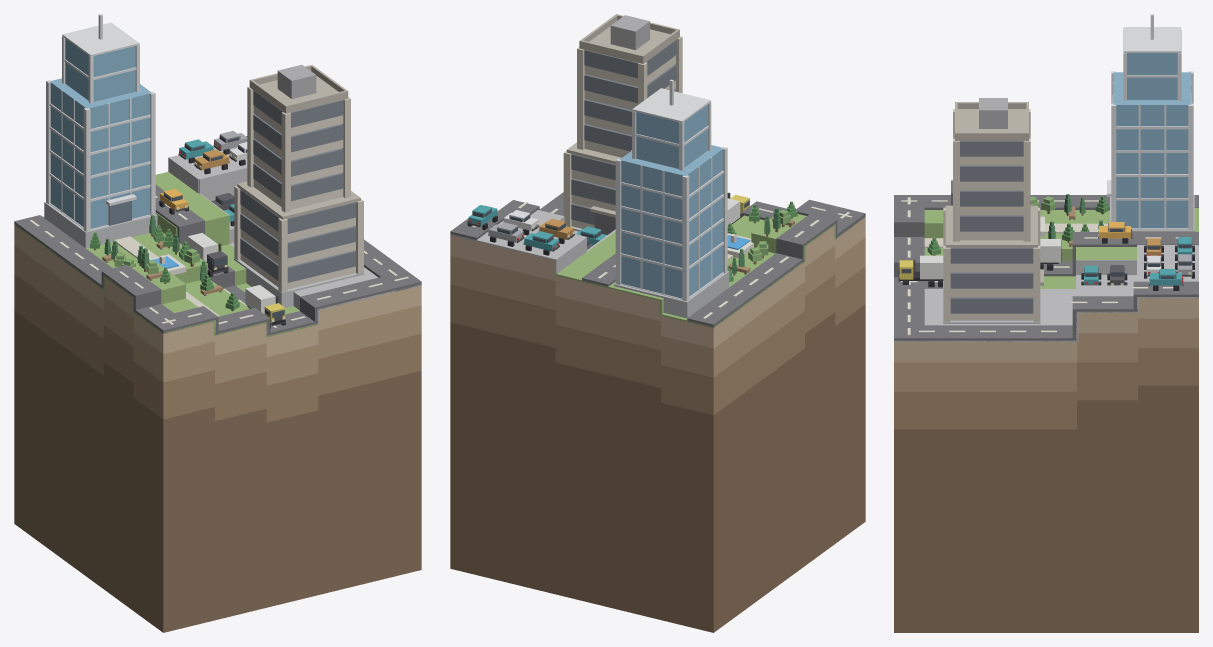
File: block_8_wetlands_0.glb
The picture shows the model from 3 angles, left to right: view 1: azimuth 30°, elevation 25°; view 2: azimuth 150°, elevation 25°; view 3: azimuth 270°, elevation 25°; orthographic projection. The views are drawn at different scales.
Parts seen in each view (by area): view 1: Patch_UpperLeft_b05_WL, Commercial_UpperLeft_WL, Roads_UpperLeft_b05_WL, Green_UpperLeft_j5_WL, Park_UpperLeft_WL, ULCar_025_WL, ULCar_024_WL, RoadMarks_UpperLeft_b05_WL, ULPark_Car02.001_WL; view 2: Patch_UpperLeft_b05_WL, Commercial_UpperLeft_WL, Roads_UpperLeft_b05_WL, Green_UpperLeft_j5_WL, Park_UpperLeft_WL, ULPark_Car00_WL, ULPark_Car00.001_WL; view 3: Patch_UpperLeft_b05_WL, Commercial_UpperLeft_WL, Roads_UpperLeft_b05_WL, Green_UpperLeft_j5_WL, ULCar_025_WL, RoadMarks_UpperLeft_b05_WL, Park_UpperLeft_WL, ULCar_024_WL, ULCar_013_WL, ULCar_023_WL.
Boxes of the visible parts, x1,y1,x2,y2 form: Patch_UpperLeft_b05_WL: [14, 225, 421, 632]; Commercial_UpperLeft_WL: [44, 14, 364, 307]; Roads_UpperLeft_b05_WL: [14, 136, 421, 336]; Green_UpperLeft_j5_WL: [14, 147, 420, 337]; Park_UpperLeft_WL: [86, 233, 248, 316]; ULCar_025_WL: [245, 285, 285, 328]; ULCar_024_WL: [187, 233, 228, 276]; RoadMarks_UpperLeft_b05_WL: [29, 196, 408, 327]; ULPark_Car02.001_WL: [194, 149, 229, 174]; Patch_UpperLeft_b05_WL: [450, 217, 865, 632]; Commercial_UpperLeft_WL: [563, 14, 729, 318]; Roads_UpperLeft_b05_WL: [450, 192, 865, 327]; Green_UpperLeft_j5_WL: [450, 210, 864, 328]; Park_UpperLeft_WL: [727, 216, 794, 286]; ULPark_Car00_WL: [488, 222, 524, 246]; ULPark_Car00.001_WL: [523, 231, 559, 255]; Patch_UpperLeft_b05_WL: [894, 298, 1198, 632]; Commercial_UpperLeft_WL: [943, 14, 1194, 323]; Roads_UpperLeft_b05_WL: [894, 180, 1198, 341]; Green_UpperLeft_j5_WL: [894, 208, 1198, 341]; ULCar_025_WL: [898, 255, 943, 287]; RoadMarks_UpperLeft_b05_WL: [901, 197, 1178, 335]; Park_UpperLeft_WL: [924, 206, 1108, 255]; ULCar_024_WL: [1040, 239, 1061, 270]; ULCar_013_WL: [1149, 269, 1183, 290]; ULCar_023_WL: [1098, 222, 1132, 243].
Size of the model in its own units: 9.5 by 17.92 by 9.5.
